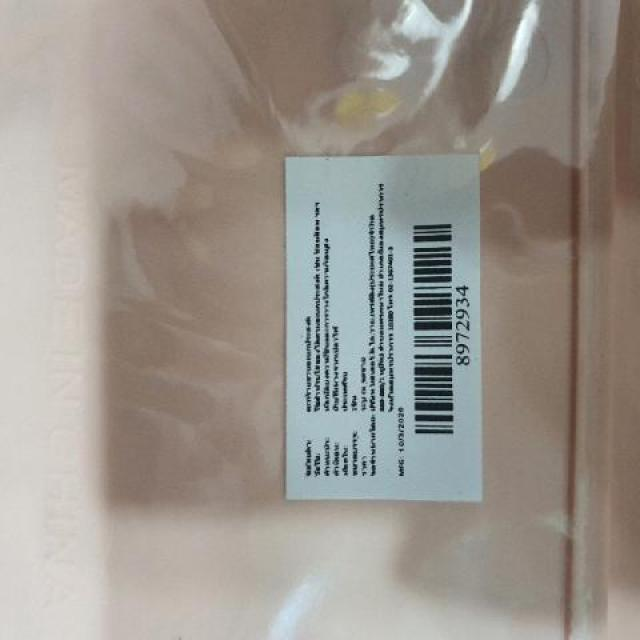Barcode: (406, 212, 470, 449)
